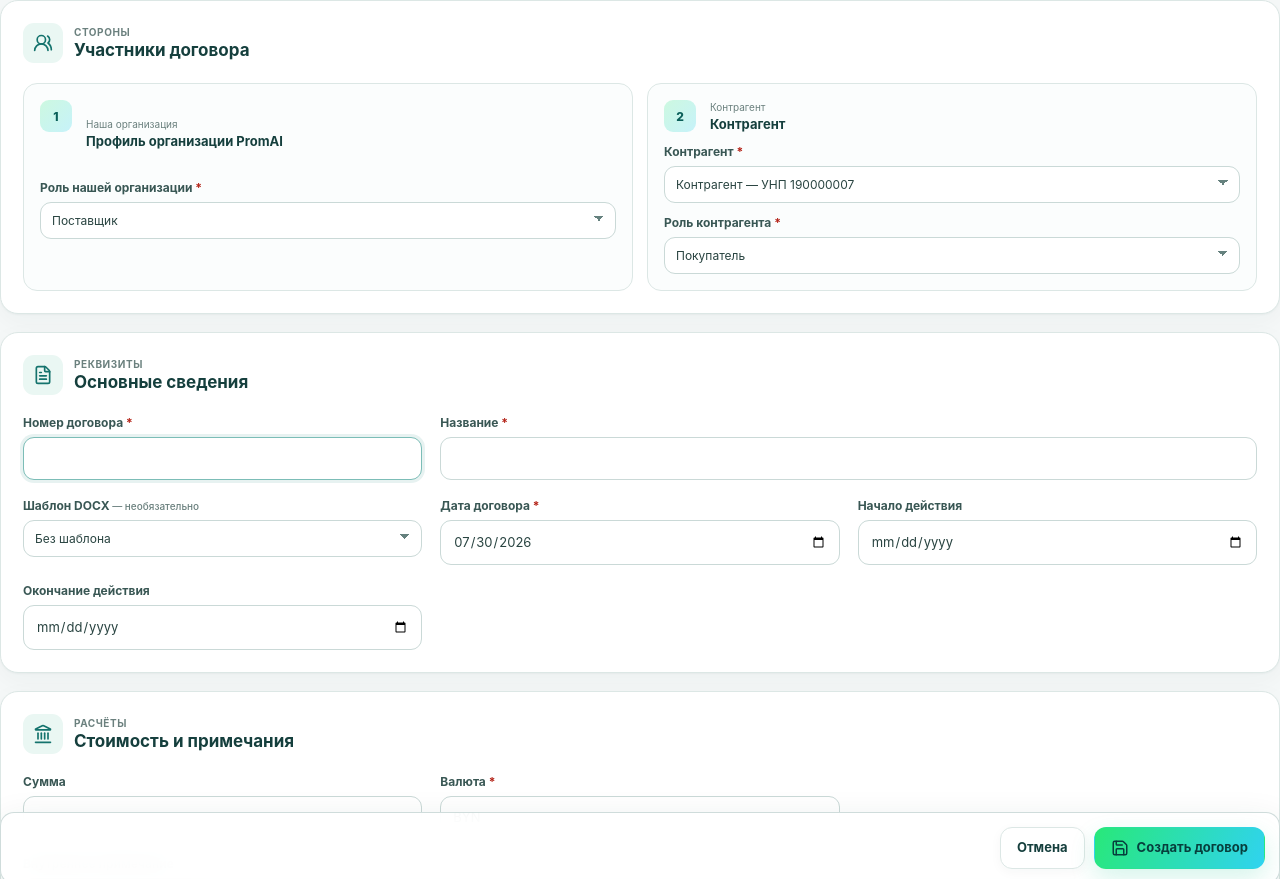
Test case: ContractForm › автоматически подбирает парную роль контрагента
The width and height of the screenshot is (1280, 879).
Select "Арендодатель" in the dropdown labelled "Роль нашей организации *" at (328, 220), box x1=40 y1=202 x2=616 y2=238
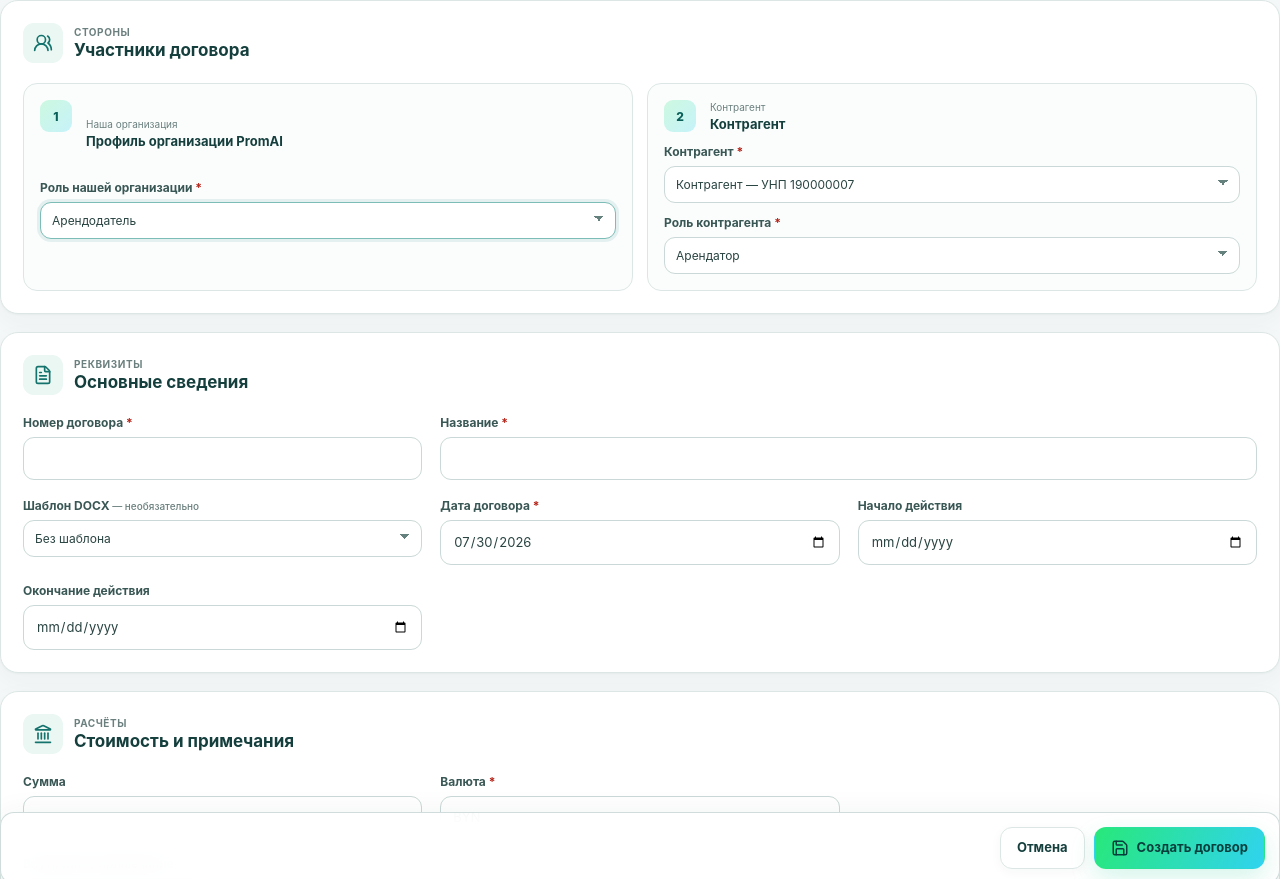
Check: the dropdown labelled "Роль контрагента *" shows "Арендатор", box x1=664 y1=237 x2=1240 y2=274
